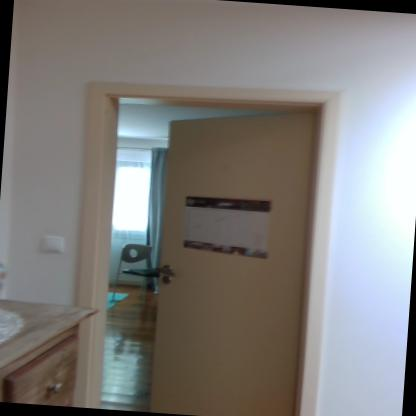semi: (55, 63, 353, 413)
